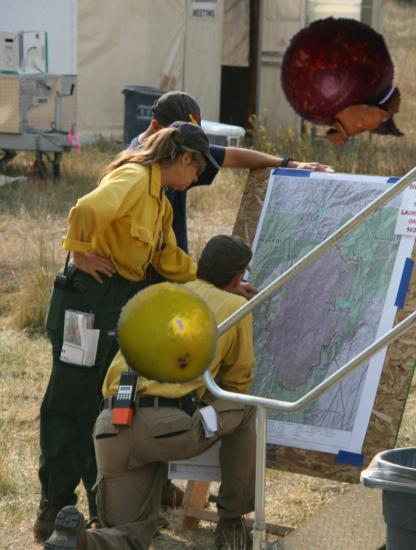Mangostan: (270, 14, 413, 157)
Maracuja: (110, 282, 219, 391)
